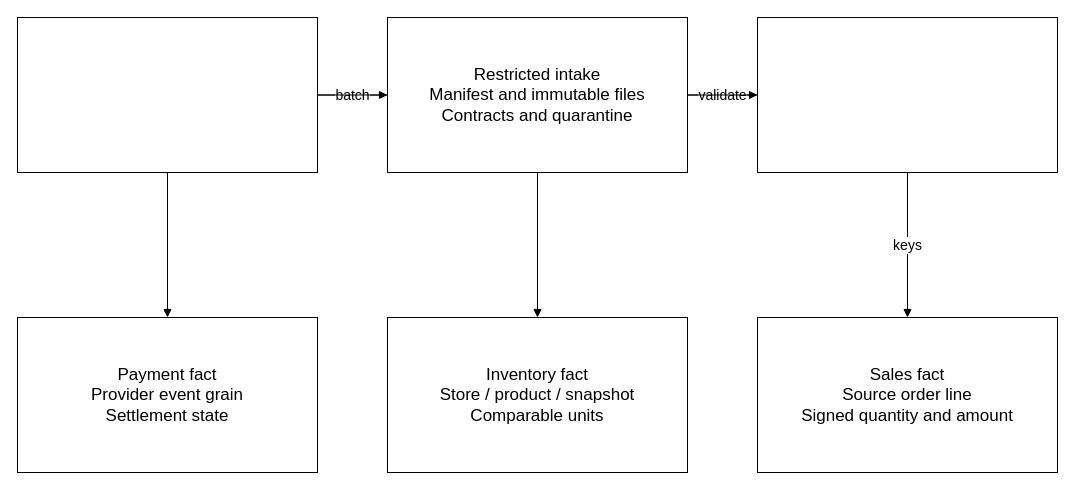
Image size: 1075x490. Some labels were removed from this diagram. Each missing label, with the centre of its shape:
"Central dimensions Date / Customer Product SCD2 / Store SCD2" belongs at [907,94].
"Local sources POS / web / loyalty CRM / Odoo" belongs at [167,94].
